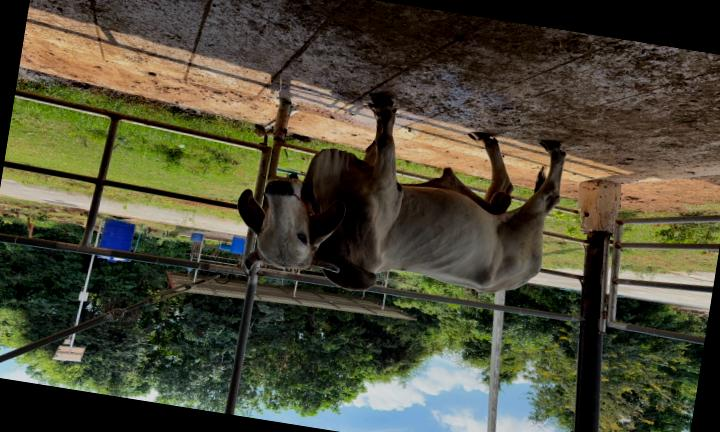Brahman: (238, 95, 565, 292)
